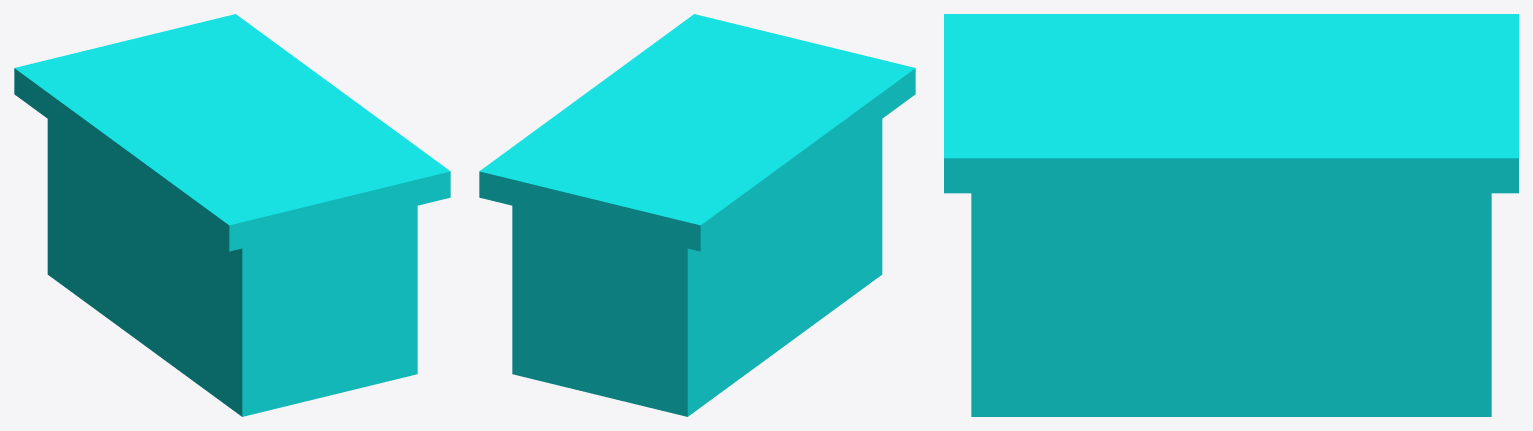
The model's file is meja.fbx.
The picture shows the model from 3 angles, left to right: view 1: azimuth 30°, elevation 25°; view 2: azimuth 150°, elevation 25°; view 3: azimuth 270°, elevation 25°; orthographic projection. The views are drawn at different scales.
Parts seen in each view (by area): view 1: Cube.001, Cube; view 2: Cube.001, Cube; view 3: Cube.001, Cube.
Part boxes in pixels (x1=…): Cube.001: x1=47, y1=119, x2=417, y2=416; Cube: x1=14, y1=14, x2=450, y2=251; Cube.001: x1=512, y1=119, x2=882, y2=416; Cube: x1=479, y1=14, x2=915, y2=251; Cube.001: x1=971, y1=193, x2=1491, y2=416; Cube: x1=944, y1=14, x2=1518, y2=193.
Bounding box in the file's own units: 223 × 197 × 375.
